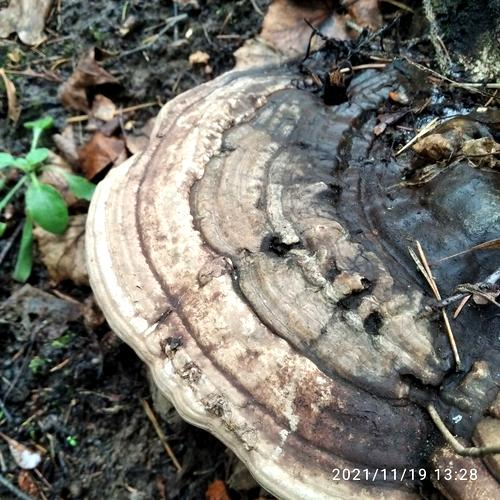Ganoderma - Fruit Body: (78, 0, 435, 460)
